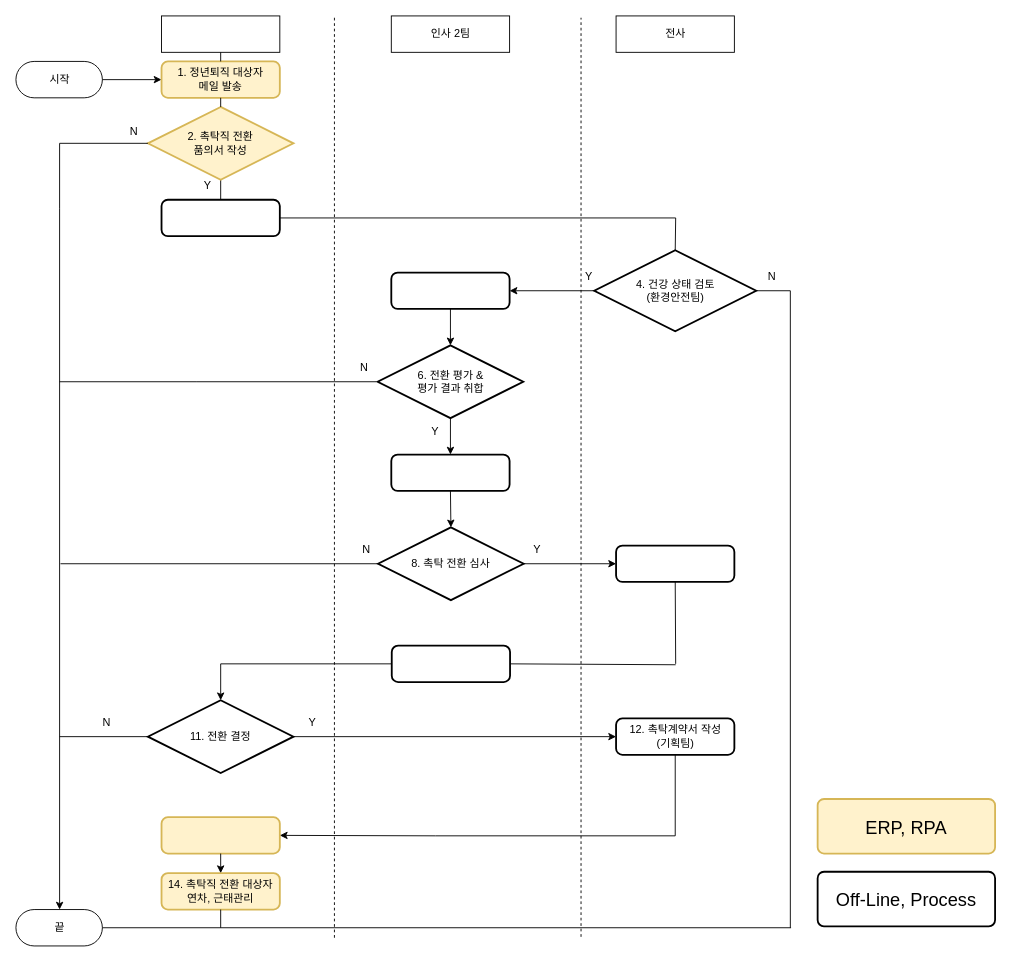
The diagram is 1012 pixels wide and 962 high, and some of its shapes have lost their labels. The shapes that lost their labels are listed below. From the top down, each one's centre as x and y in pixels, then its label:
At (x=220, y=33): "인사 1팀".
At (x=220, y=217): "3. 요청 수신".
At (x=450, y=290): "5. 전환 평가 요청 수신".
At (x=450, y=472): "7. 촉탁 전환 심사 위원회 구성".
At (x=675, y=563): "9. 처우 협의 (기획팀)".
At (x=450, y=663): "10. 대표이사 보고".
At (x=220, y=835): "13. 촉탁직 인사발령".
